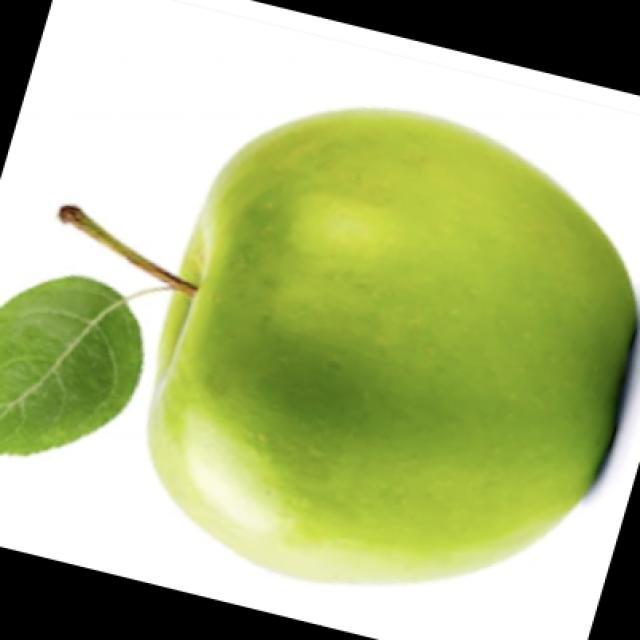Fresh Apple: (141, 103, 640, 561)
